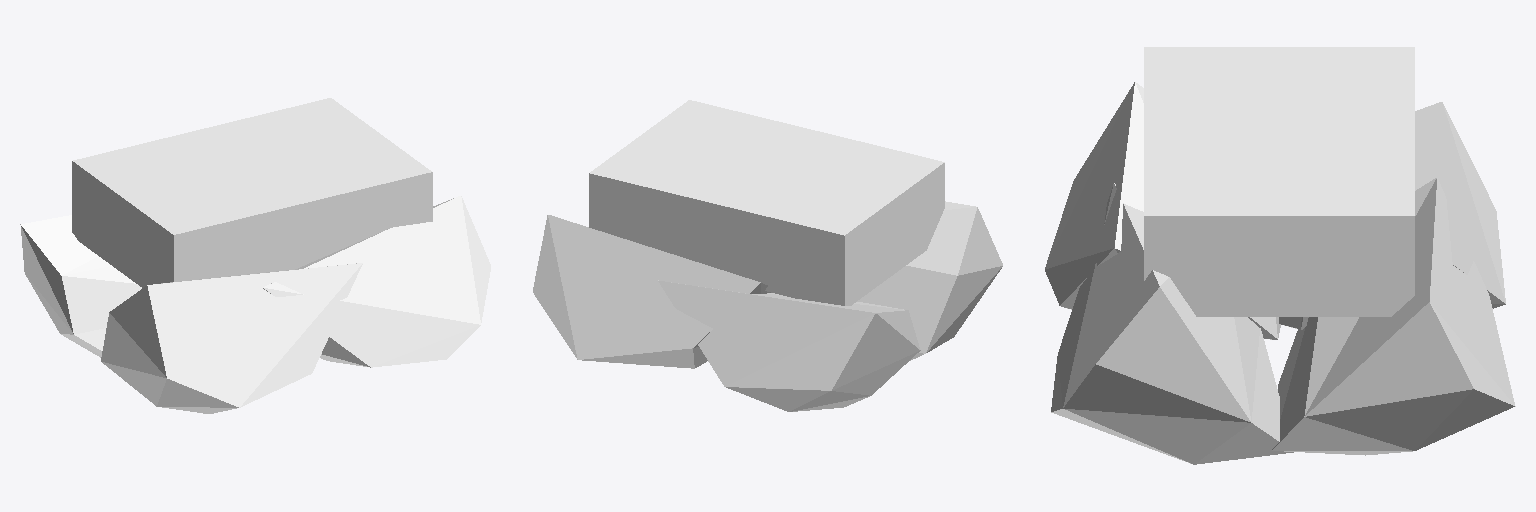
URDF robot description (solo_trunk):
<robot name="solo_trunk">
  <link name="base_link">
  <inertial>
     <mass value="30.47"/>
     <inertia ixx="1." ixy="0.0" ixz="0.0" iyy="1." iyz="0.0" izz="1."/>
  </inertial>
    <visual>
      <origin xyz="0 0 0" rpy="0 0 0" />
      <geometry>
        <mesh filename="package://solo-rbprm/meshes/solo_all_visual.dae"/>
      </geometry>
      <material name="white">
        <color rgba="1 1 1 1"/>
      </material>
    </visual>
    <collision>
      <origin xyz="0 0 -0.05" rpy="0 0 0" />
      <geometry>
        <mesh filename="package://solo-rbprm/meshes/solo_trunk.stl"/>
      </geometry>
    </collision>
  </link>
</robot>

--- Facts derived from the render (not from the file) ---
Views: 3 orthographic renders of the robot side by side, from view 1: azimuth 30°, elevation 25°; view 2: azimuth 150°, elevation 25°; view 3: azimuth 270°, elevation 25°.
Robot: solo_trunk — 1 links, 0 joints (none); root link base_link; default pose: all joints at 0.
Visible links, largest first — view 1: base_link; view 2: base_link; view 3: base_link.
Boxes of the visible links, x1,y1,x2,y2 form: base_link: (20,98,490,413); base_link: (533,100,1002,411); base_link: (1045,47,1515,464).
Size in the robot's own frame: 0.6594 by 0.5898 by 0.3637 metres.
Meshes: 1 distinct files referenced, 1 mesh visuals loaded (1 Collada DAE).